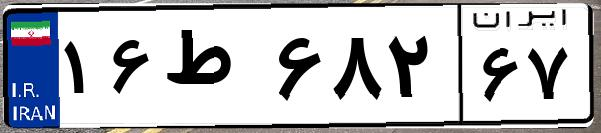1: (57, 26, 110, 100)
2: (385, 28, 445, 110)
6: (270, 28, 330, 110), (475, 38, 525, 113), (110, 28, 158, 98)
7: (525, 38, 570, 115)
8: (330, 28, 385, 110)
ط: (158, 20, 270, 120)
